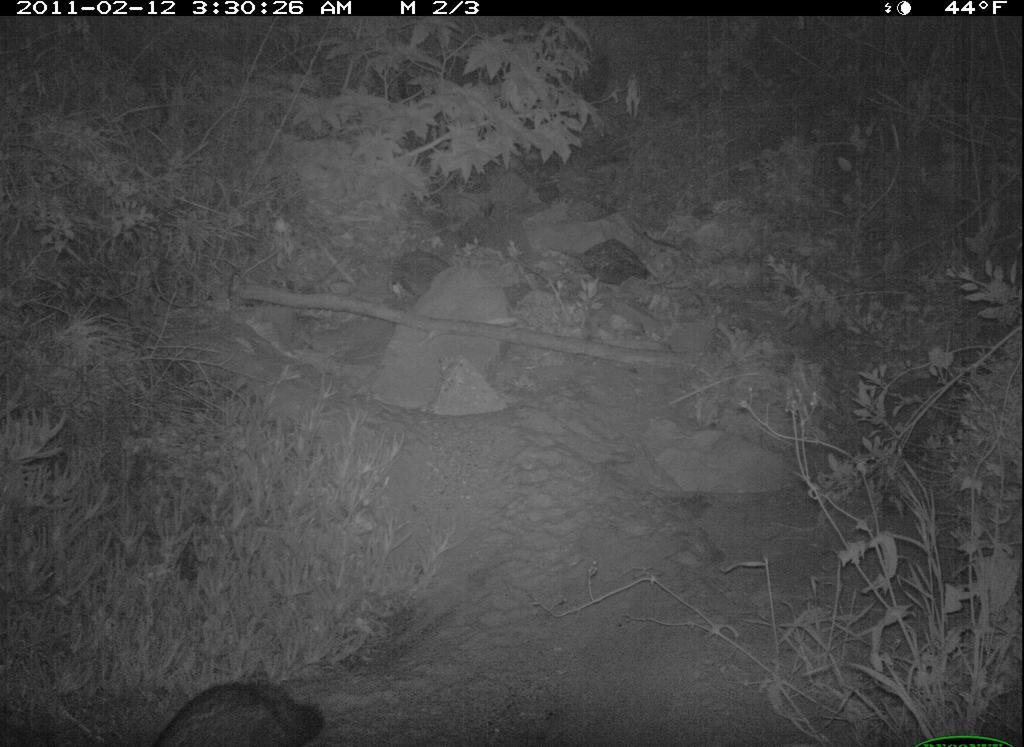raccoon: (145, 671, 331, 747)
